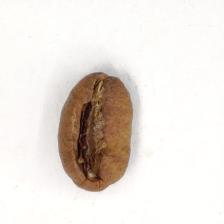NG: (66, 74, 126, 192)
